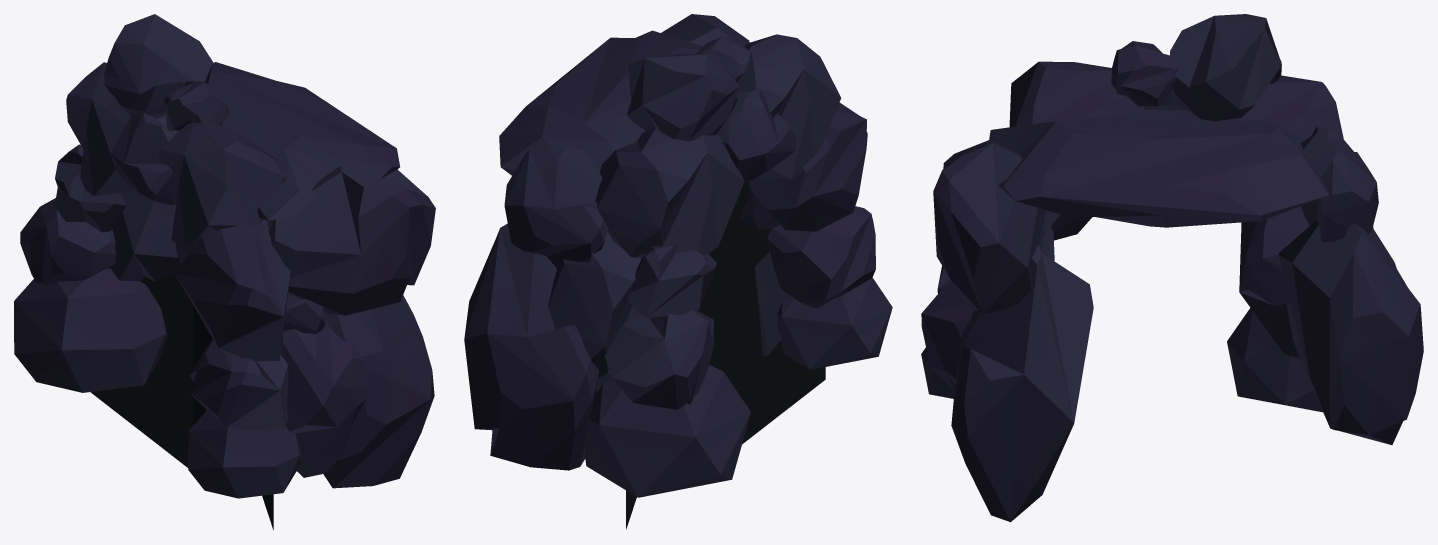
Rendered from Cave_Mouth.fbx.
3 views of the same model, side by side, from view 1: azimuth 30°, elevation 25°; view 2: azimuth 150°, elevation 25°; view 3: azimuth 270°, elevation 25° (orthographic). The views are drawn at different scales.
Visible parts, largest first — view 1: Sphere.033; view 2: Sphere.033; view 3: Sphere.033.
Boxes of the visible parts, box(x1,y1,x2,y2) form: Sphere.033: box(14, 14, 435, 530); Sphere.033: box(464, 14, 892, 529); Sphere.033: box(921, 14, 1423, 522).
Size of the model in its own units: 192 by 329 by 307.
